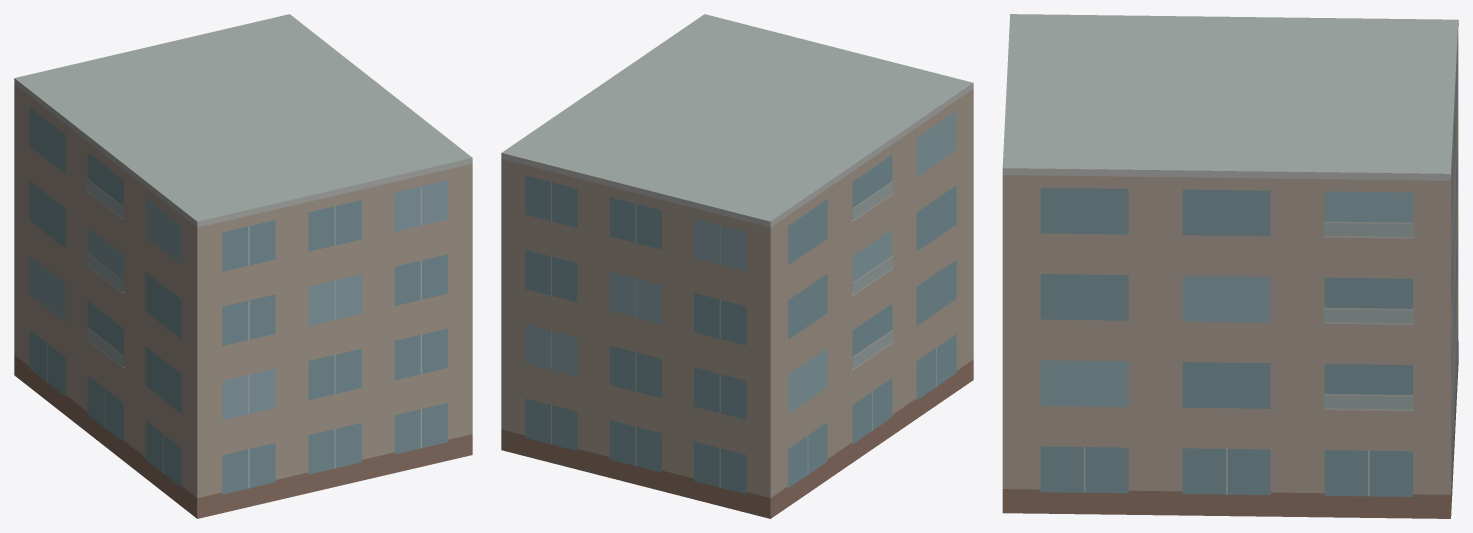
File: survey-upis-32962382.glb
The picture shows the model from 3 angles, left to right: view 1: azimuth 30°, elevation 25°; view 2: azimuth 150°, elevation 25°; view 3: azimuth 270°, elevation 25°; orthographic projection. The views are drawn at different scales.
Visible parts, largest first — view 1: survey-upis-32962382.tmp; view 2: survey-upis-32962382.tmp; view 3: survey-upis-32962382.tmp.
Boxes of the visible parts, x1,y1,x2,y2 form: survey-upis-32962382.tmp: (14,14,472,518); survey-upis-32962382.tmp: (501,14,973,518); survey-upis-32962382.tmp: (1002,14,1458,518).
Bounding box in the file's own units: 12.13 × 12.2 × 14.61.
